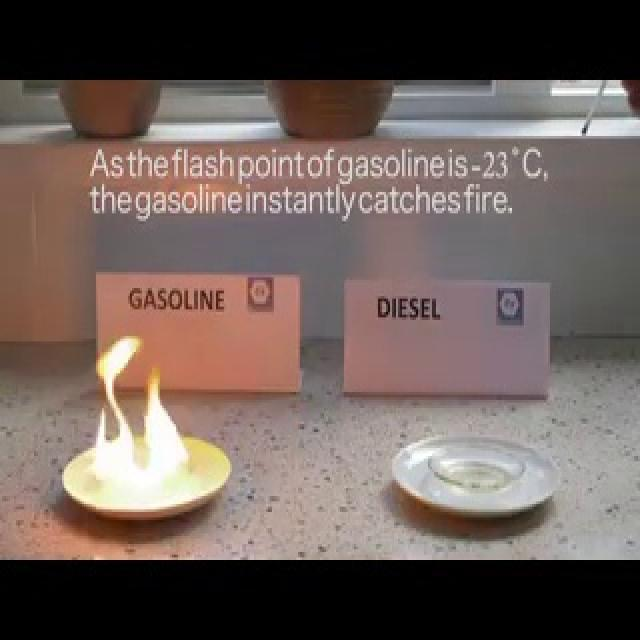Fire: (59, 333, 233, 523), (86, 333, 193, 486)
